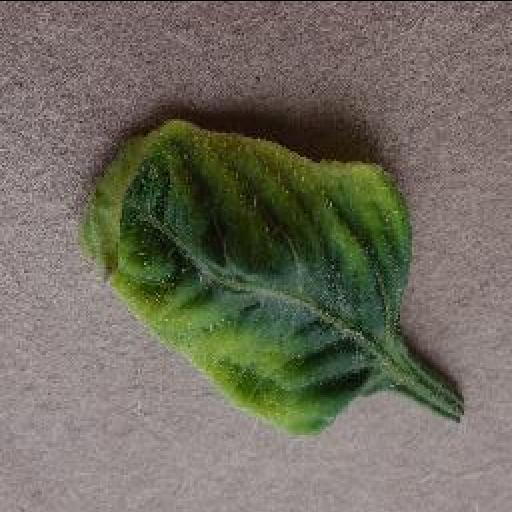disease_tomato: (80, 116, 408, 434)
